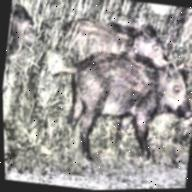boar: (57, 38, 192, 175)
